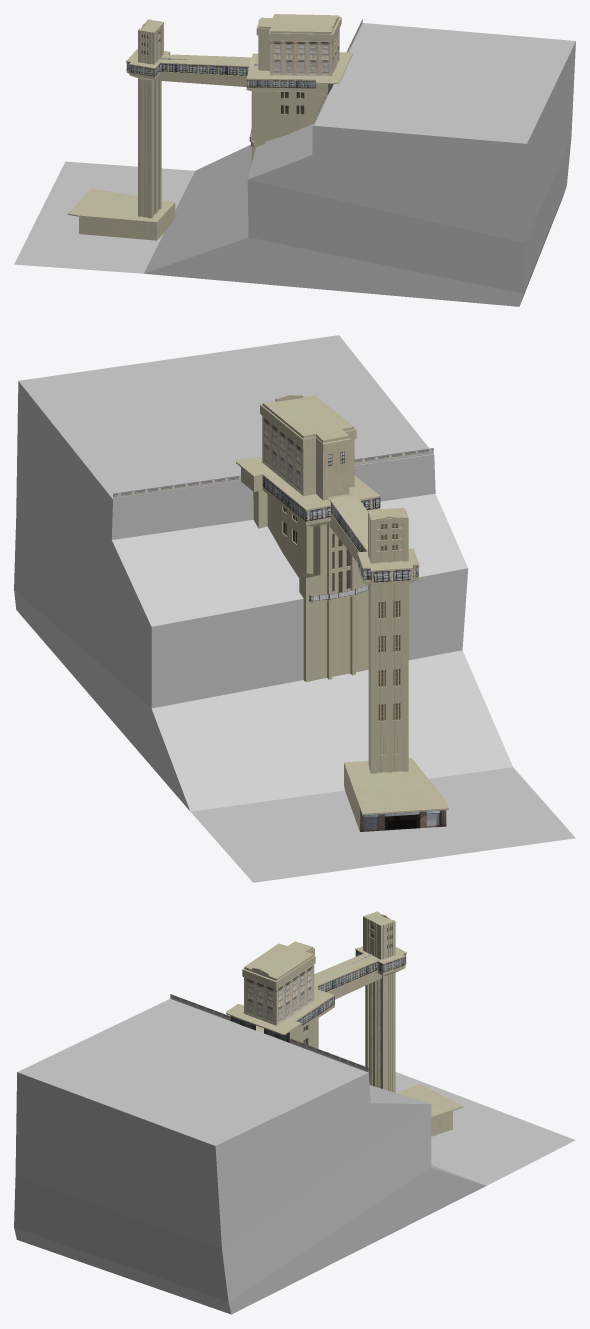
The model's file is Elevador.obj.
3 renders of one model, top to bottom at view 1: azimuth 30°, elevation 25°; view 2: azimuth 150°, elevation 25°; view 3: azimuth 270°, elevation 25°, orthographic. The views are drawn at different scales.
Parts seen in each view (by area): view 1: Morro_Cube.010, Torre_A_Cube.007, Torre_A_Predio_Cube, Base_Cube.005, Adorno_Colunas_Cube.012, Corredor_Cube.006, Torre_B_Elevador_Cube.002, Torre_B_Elevador_topo_Cube.001; view 2: Morro_Cube.010, Torre_A_Cube.007, Torre_A_Predio_Cube, Adorno_Colunas_Cube.012, Base_Cube.005, Torre_B_Elevador_Cube.002, Corredor_Cube.006, Muro_baixo_Plane.002, Torre_B_Elevador_topo_Cube.001; view 3: Morro_Cube.010, Torre_A_Predio_Cube, Adorno_Colunas_Cube.012, Torre_A_Cube.007, Corredor_Cube.006, Torre_B_Elevador_Cube.002, Base_Cube.005, Torre_B_Elevador_topo_Cube.001, Muro_baixo_Plane.002.
Part boxes in pixels (x1,y1,x2,y2): Morro_Cube.010: (14,23,575,306); Torre_A_Cube.007: (246,52,352,163); Torre_A_Predio_Cube: (256,14,341,75); Base_Cube.005: (67,188,175,240); Adorno_Colunas_Cube.012: (138,19,161,218); Corredor_Cube.006: (153,54,255,86); Torre_B_Elevador_Cube.002: (126,48,170,217); Torre_B_Elevador_topo_Cube.001: (139,20,163,64); Morro_Cube.010: (14,335,575,882); Torre_A_Cube.007: (236,456,380,681); Torre_A_Predio_Cube: (260,394,356,500); Adorno_Colunas_Cube.012: (368,508,408,773); Base_Cube.005: (344,758,448,831); Torre_B_Elevador_Cube.002: (357,548,419,772); Corredor_Cube.006: (328,493,367,562); Muro_baixo_Plane.002: (113,448,433,499); Torre_B_Elevador_topo_Cube.001: (368,507,407,562); Morro_Cube.010: (14,998,575,1314); Torre_A_Predio_Cube: (242,941,315,1025); Adorno_Colunas_Cube.012: (365,911,395,1092); Torre_A_Cube.007: (226,988,334,1052); Corredor_Cube.006: (314,952,381,999); Torre_B_Elevador_Cube.002: (355,946,406,1091); Base_Cube.005: (397,1084,463,1136); Torre_B_Elevador_topo_Cube.001: (363,912,392,959); Muro_baixo_Plane.002: (170,994,368,1072).
Bounding box in the file's own units: 154 × 66.6 × 145.
